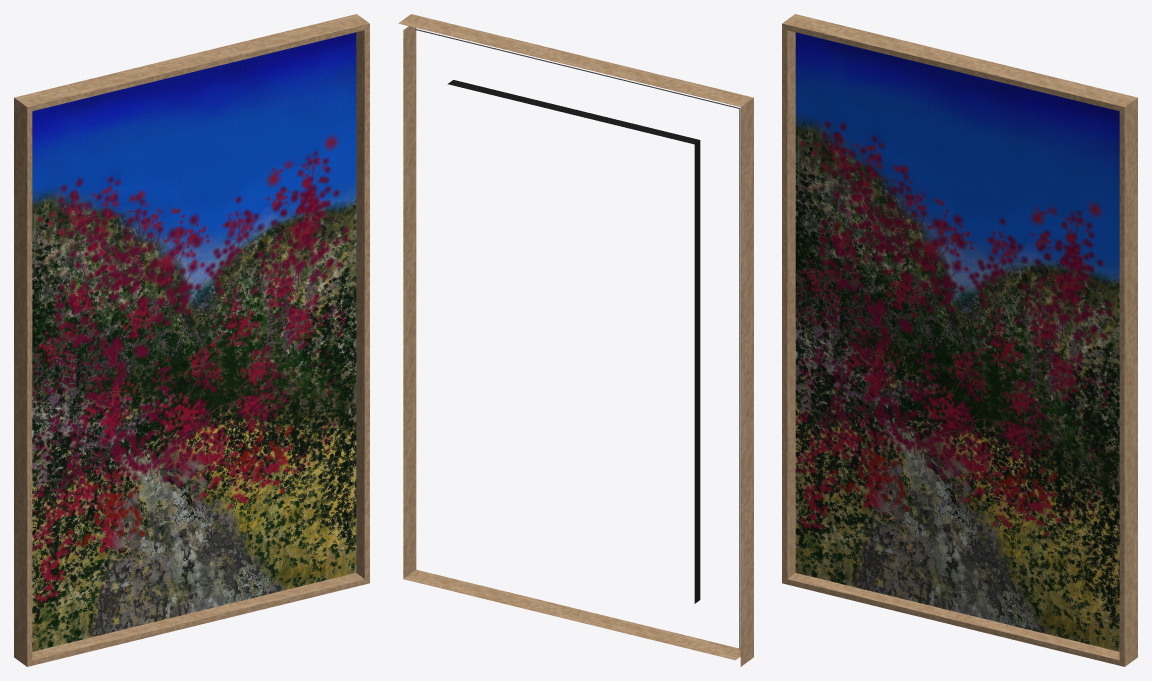
Rendered from os017_moyen_caisse-chene.glb.
3 renders of one model, left to right at view 1: azimuth 30°, elevation 25°; view 2: azimuth 150°, elevation 25°; view 3: azimuth 330°, elevation 25°, orthographic.
Parts seen in each view (by area): view 1: os017_moyen_caisse-chene; view 2: os017_moyen_caisse-chene; view 3: os017_moyen_caisse-chene.
Part boxes in pixels (bbox=[...]): os017_moyen_caisse-chene: bbox=[14, 14, 369, 666]; os017_moyen_caisse-chene: bbox=[398, 14, 753, 666]; os017_moyen_caisse-chene: bbox=[782, 14, 1137, 666].
Bounding box in the file's own units: 0.5304 × 0.828 × 0.035.
4 materials, 2 textured.
